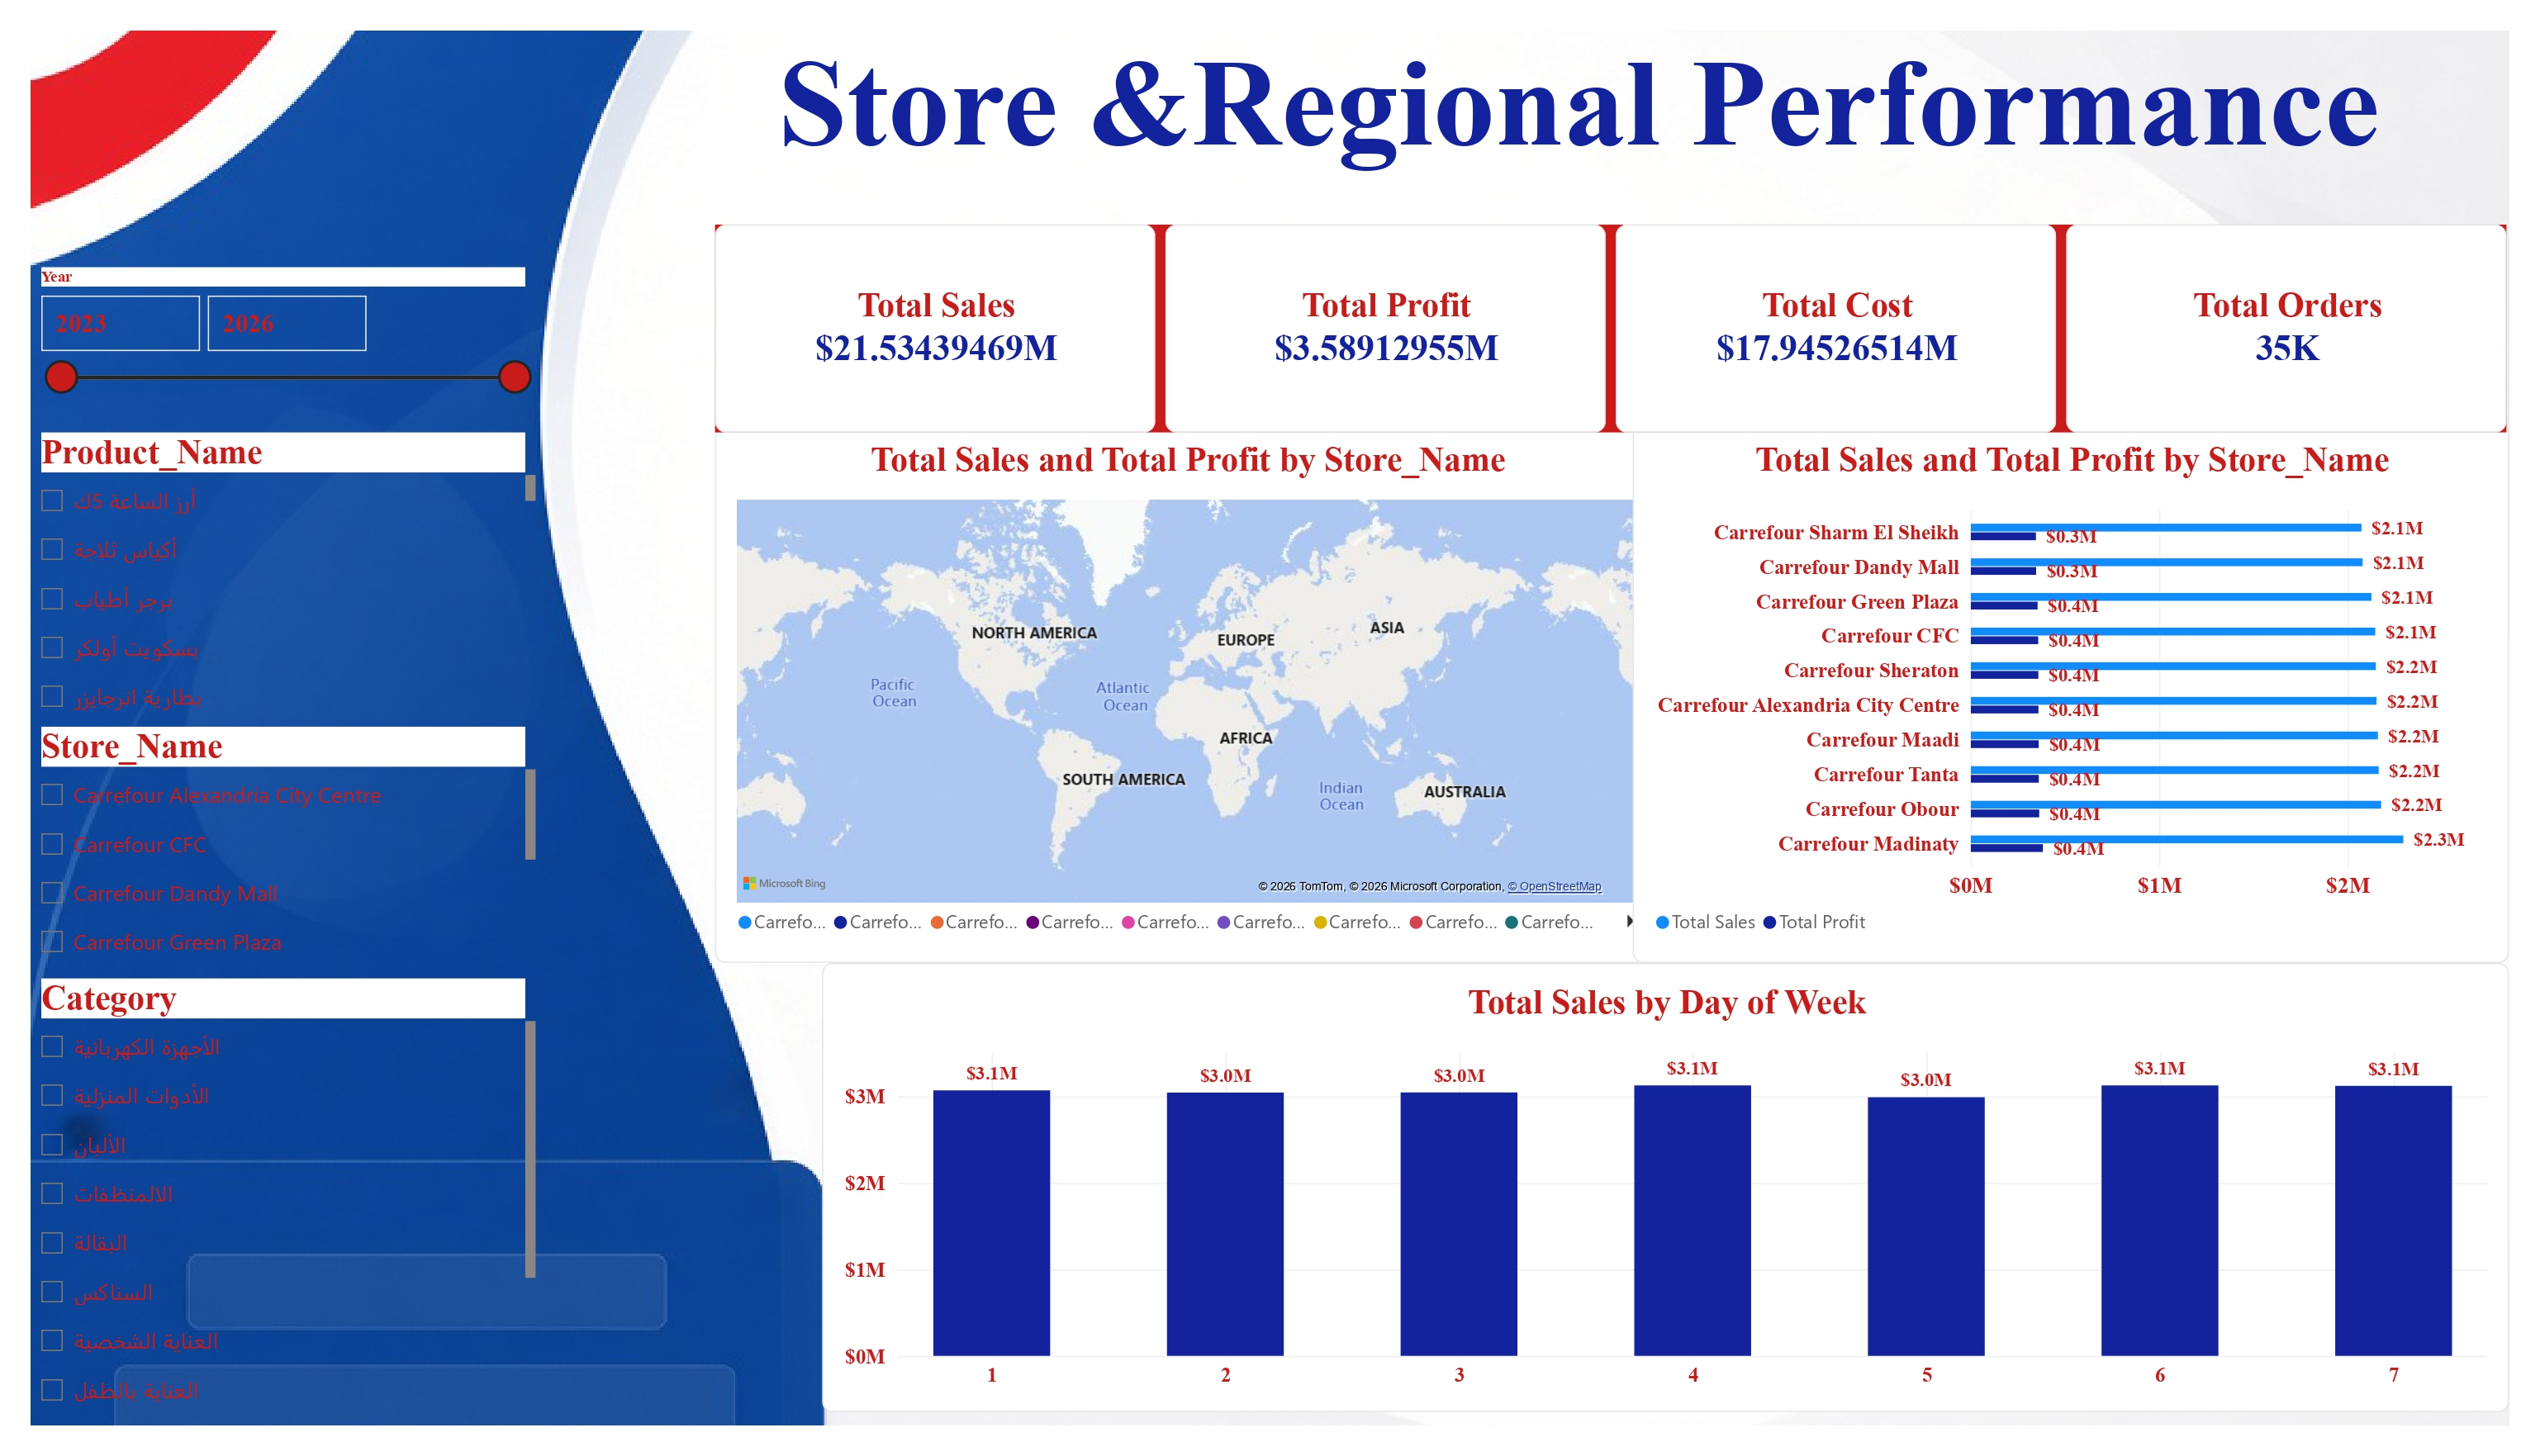

The dashboard page shown, as its layout file describes it:
{"tool":"powerbi","page":{"name":"Store & Regional Performance","canvas":[1920,1080],"ordinal":3},"visuals":[{"type":"map","fields":{"Series":["Dim_Stores.Store_Name"],"Size":["Table.Total Sales"]},"box":[530.2,302.2,731.1,419.8],"z":0},{"type":"clusteredBarChart","fields":{"Category":["Dim_Stores.Store_Name"],"Y":["Table.Total Sales","Table.Total Profit"]},"box":[1241.4,302.2,678.6,419.8],"z":1000},{"type":"clusteredColumnChart","fields":{"Category":["Calendar.Day of Week"],"Y":["Table.Total Sales"]},"box":[613.5,722.1,1306.6,347.5],"z":2000},{"type":"slicer","fields":{"Values":["Calendar.Year"]},"box":[0,182.8,390.9,119.4],"z":2001},{"type":"slicer","fields":{"Values":["Dim_Products.Product_Name"]},"box":[0,311.3,390.9,228],"z":2002},{"type":"slicer","fields":{"Values":["Dim_Stores.Store_Name"]},"box":[0,539.3,390.9,195.4],"z":2003},{"type":"slicer","fields":{"Values":["Dim_Products.Category"]},"box":[0,734.4,390.9,345.6],"z":2004},{"type":"cardVisual","fields":{"Data":["Table.Total Sales","Table.Total Profit","Table.Total Cost","Table.Total Orders"]},"box":[530.2,150.2,1389.8,161.1],"z":2005},{"type":"textbox","box":[478,0,1442,150],"z":2006}]}

Visuals, with their boxes on the page's 1920x1080 design canvas (x1, y1, x2, y2). These are canvas units, not pixel positions in the 2540x1456 screenshot, which may show the page scaled, cropped or inside an application window:
map - Dim_Stores.Store_Name x Table.Total Sales: bbox=[530, 302, 1261, 722]
clusteredBarChart - Dim_Stores.Store_Name x Table.Total Sales: bbox=[1241, 302, 1920, 722]
clusteredColumnChart - Calendar.Day of Week x Table.Total Sales: bbox=[614, 722, 1920, 1070]
slicer - Calendar.Year: bbox=[0, 183, 391, 302]
slicer - Dim_Products.Product_Name: bbox=[0, 311, 391, 539]
slicer - Dim_Stores.Store_Name: bbox=[0, 539, 391, 735]
slicer - Dim_Products.Category: bbox=[0, 734, 391, 1080]
cardVisual - Table.Total Sales x Table.Total Profit: bbox=[530, 150, 1920, 311]
textbox: bbox=[478, 0, 1920, 150]
